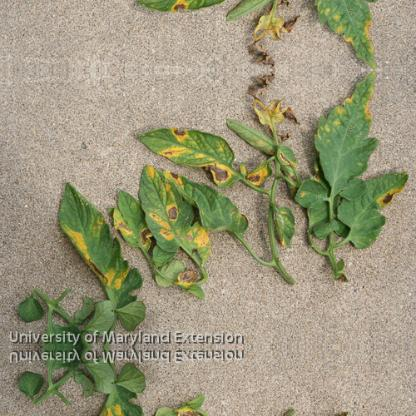Early-Blight: (53, 178, 148, 298), (132, 116, 278, 192), (135, 203, 233, 291), (240, 70, 314, 146), (239, 0, 314, 68), (336, 73, 390, 135), (336, 3, 390, 65), (132, 0, 277, 22), (367, 169, 415, 219)
